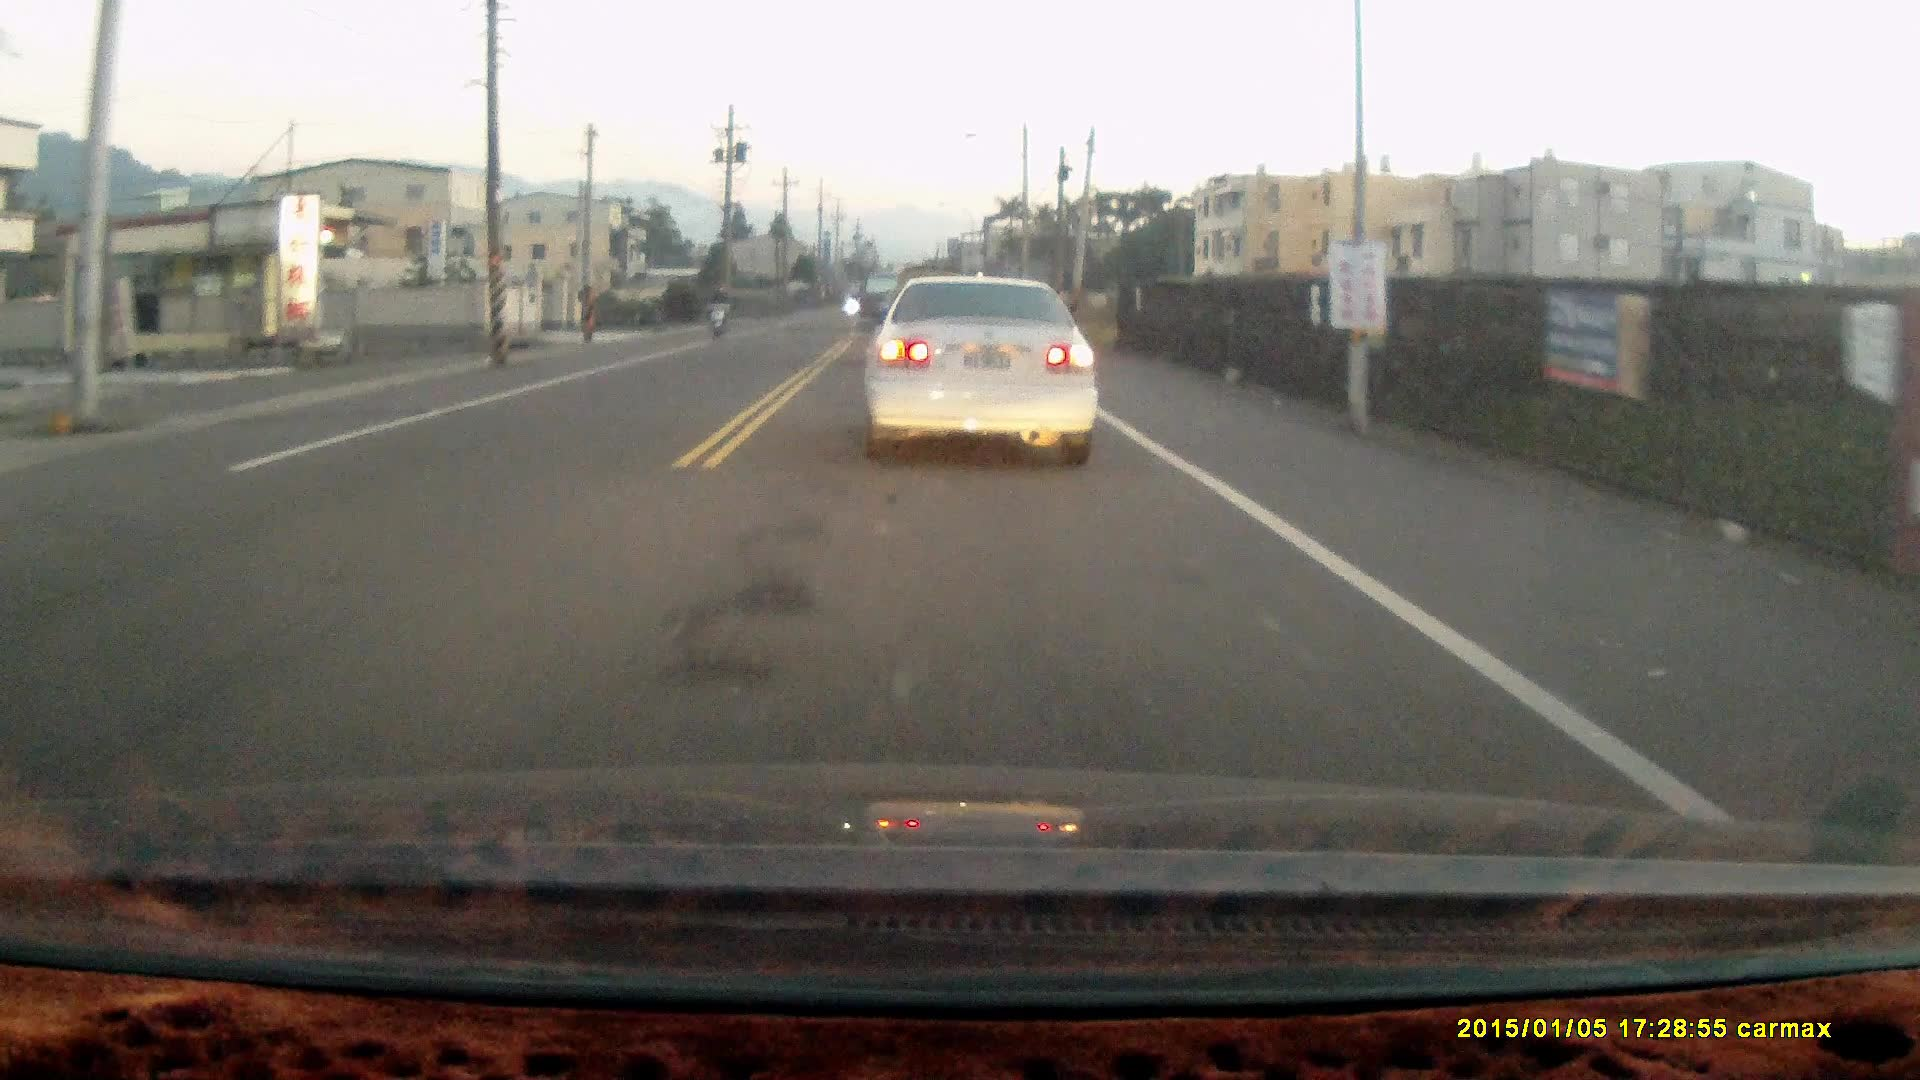rider: (704, 284, 729, 338)
vehicle: (860, 274, 1101, 470)
